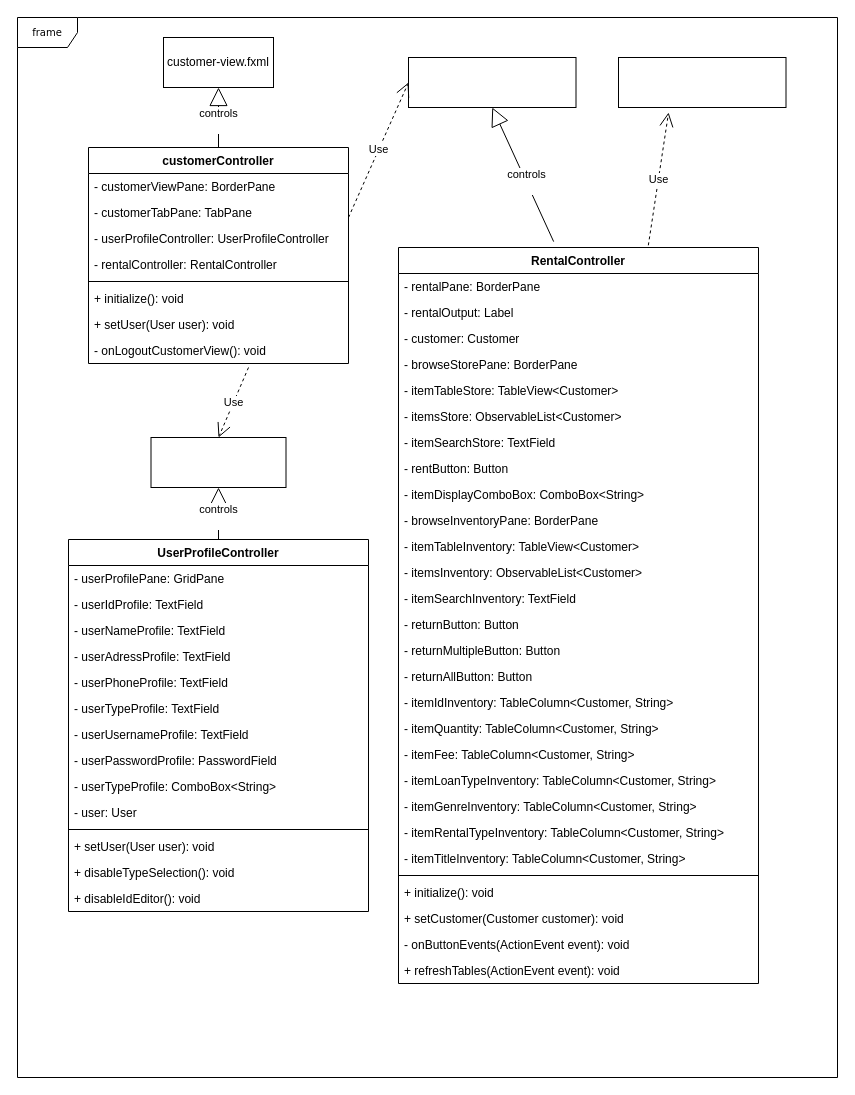
Image size: 855x1095. Some labels were removed from this diagram. The centre of each missing label's shape, as x and y in pixels:
"itemTable-view.fxml" belongs at (702,82).
"rental-view.fxml" belongs at (492,82).
"userProfile-view.fxml" belongs at (218,462).
